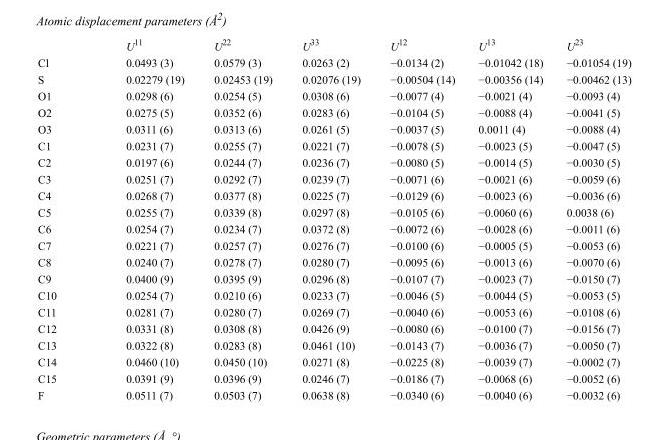table: (37, 36, 630, 400)
table column: (90, 36, 198, 400), (374, 36, 466, 400), (198, 36, 286, 400), (286, 36, 374, 400), (466, 36, 554, 400), (554, 36, 630, 400), (37, 36, 90, 400)
table column header: (37, 36, 630, 53)
table row: (37, 36, 630, 53), (37, 53, 630, 70), (37, 70, 630, 87), (37, 103, 630, 120), (37, 120, 630, 137), (37, 153, 630, 170), (37, 186, 630, 203), (37, 203, 630, 220), (37, 236, 630, 253), (37, 253, 630, 270), (37, 286, 630, 303), (37, 319, 630, 336), (37, 336, 630, 353), (37, 369, 630, 386), (37, 87, 630, 103), (37, 137, 630, 153), (37, 170, 630, 186), (37, 220, 630, 236), (37, 270, 630, 286), (37, 303, 630, 319), (37, 353, 630, 369), (37, 386, 630, 400)
